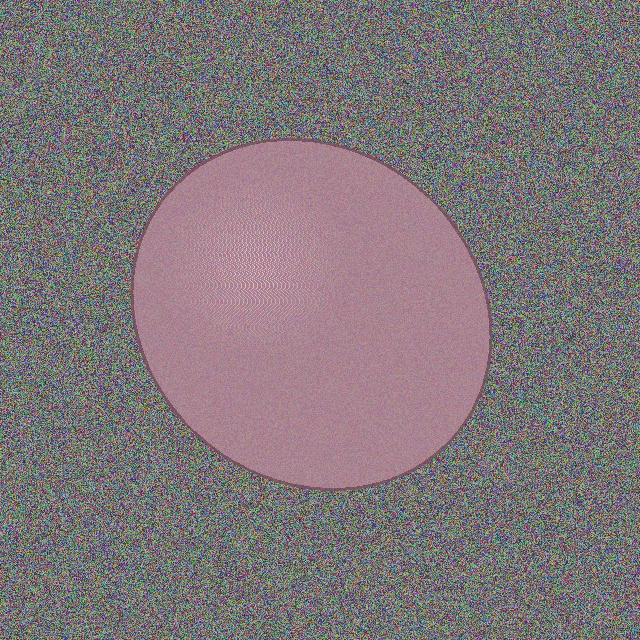lens: (132, 139, 490, 489)
